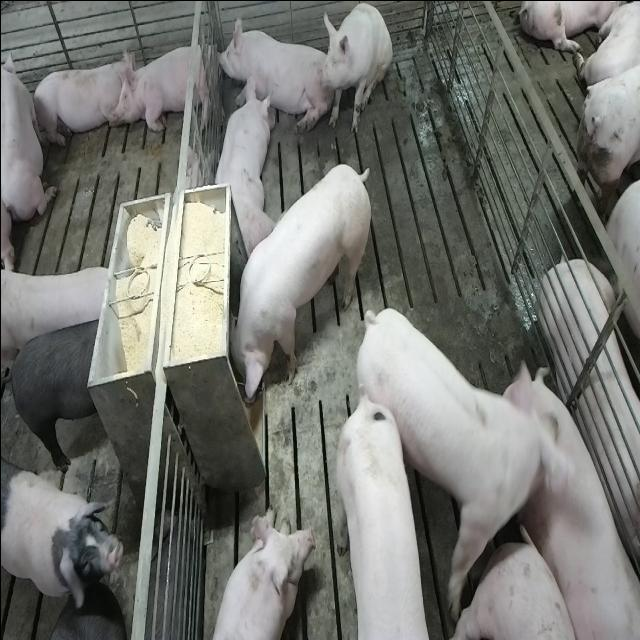Feeding: (220, 161, 368, 409)
Lateral_lying: (538, 258, 640, 588)
Sitting: (316, 3, 392, 137)
Standing: (353, 293, 559, 636), (330, 396, 424, 640), (3, 466, 124, 614), (5, 312, 106, 468), (2, 263, 120, 375), (578, 38, 640, 189), (38, 610, 129, 640)
Sternal_lying: (508, 361, 640, 640), (202, 504, 308, 640), (214, 10, 326, 134), (209, 75, 272, 261), (29, 50, 131, 150), (3, 41, 57, 226), (119, 36, 215, 134)
